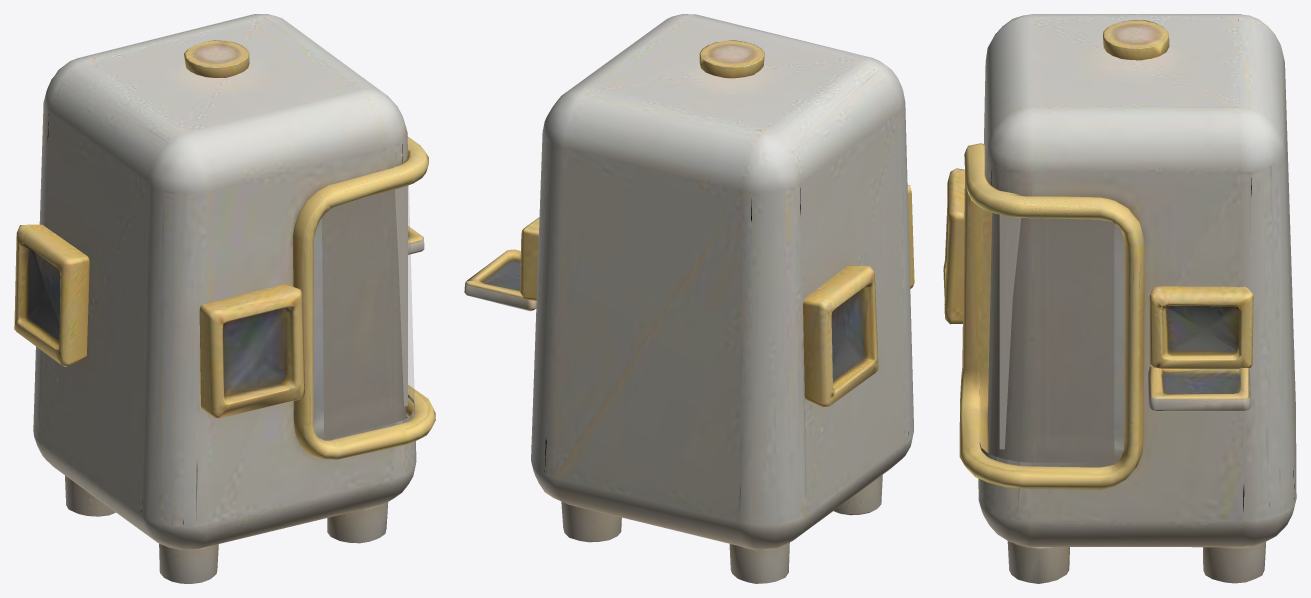
File: assembler.glb
The picture shows the model from 3 angles, left to right: view 1: azimuth 30°, elevation 25°; view 2: azimuth 150°, elevation 25°; view 3: azimuth 270°, elevation 25°; orthographic projection. The views are drawn at different scales.
Visible parts, largest first — view 1: assembler, glass, inside; view 2: assembler; view 3: assembler, glass, inside.
Boxes of the visible parts, x1,y1,x2,y2 form: assembler: (14, 14, 435, 583); glass: (322, 185, 414, 438); inside: (395, 185, 407, 406); assembler: (464, 14, 914, 583); assembler: (943, 14, 1296, 583); glass: (980, 210, 1113, 461); inside: (999, 215, 1021, 449).
Bounding box in the file's own units: 1.57 × 1.9 × 1.24.
5 materials, 2 textured.
